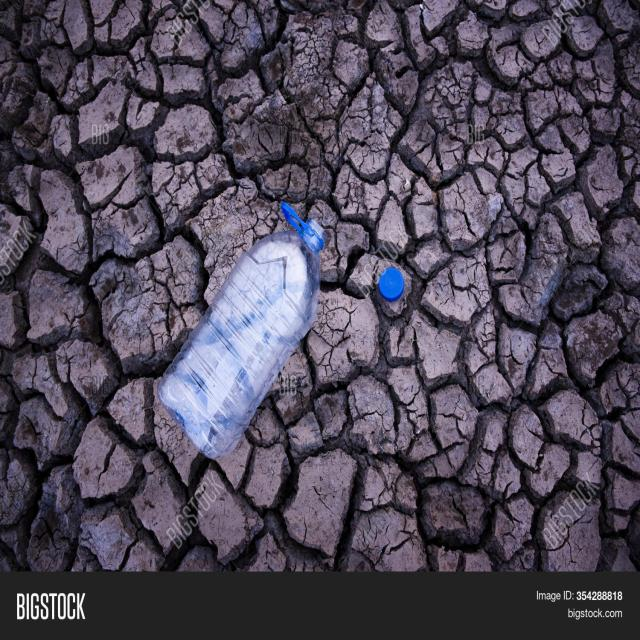plastic_bottle: (156, 201, 327, 460)
